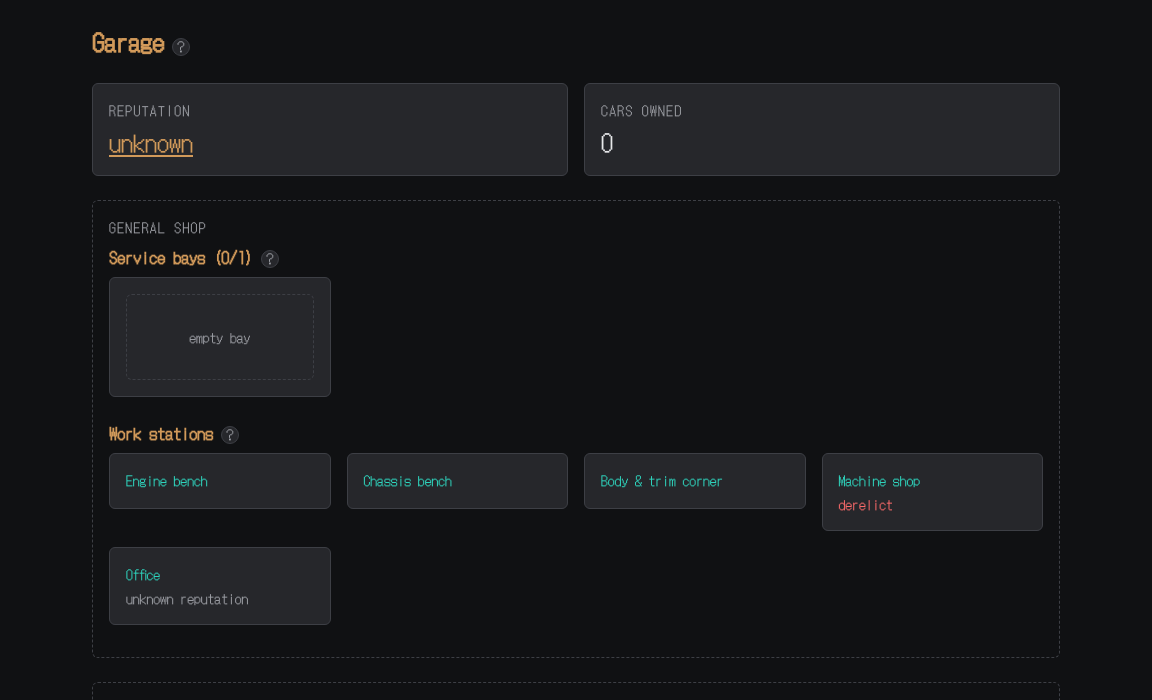
Test: GarageScreen › work stations (the garage is one building) › clicking the machine shop opens the machine panel in place, machinery list and all
Click the button with test id "station-open-machine". click: (932, 492)
box: [822, 453, 1043, 531]
(page scrolled)
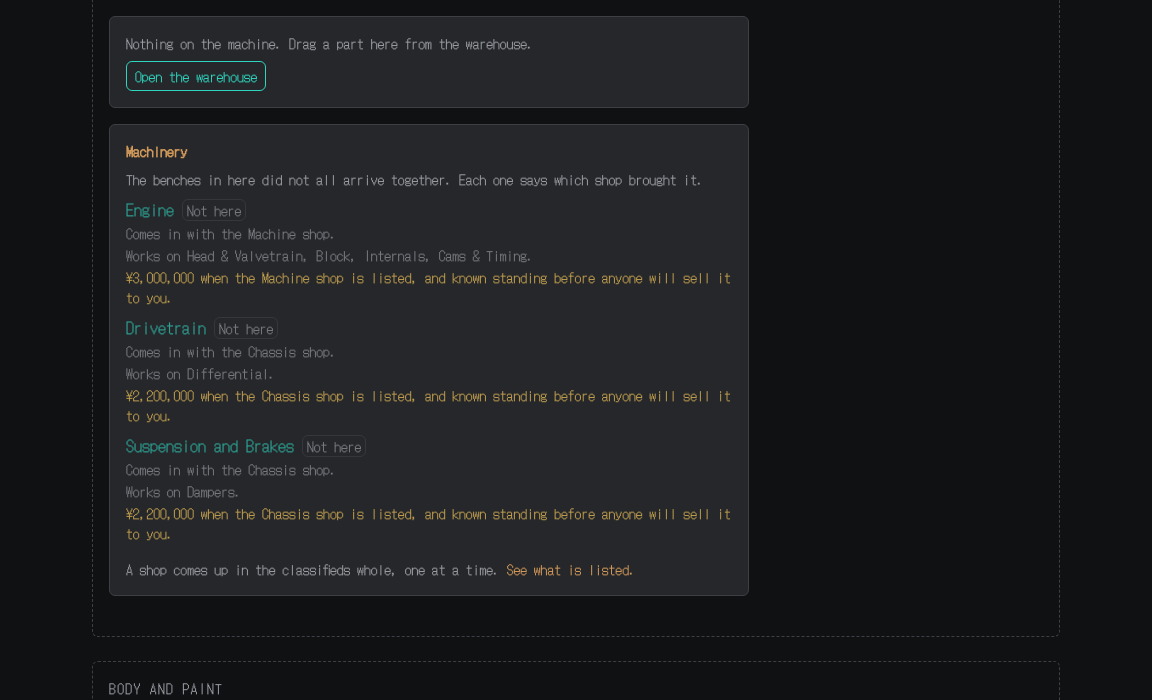
Now the element with test id "machine-shop-machinery" is shown, box [109, 124, 749, 596]
